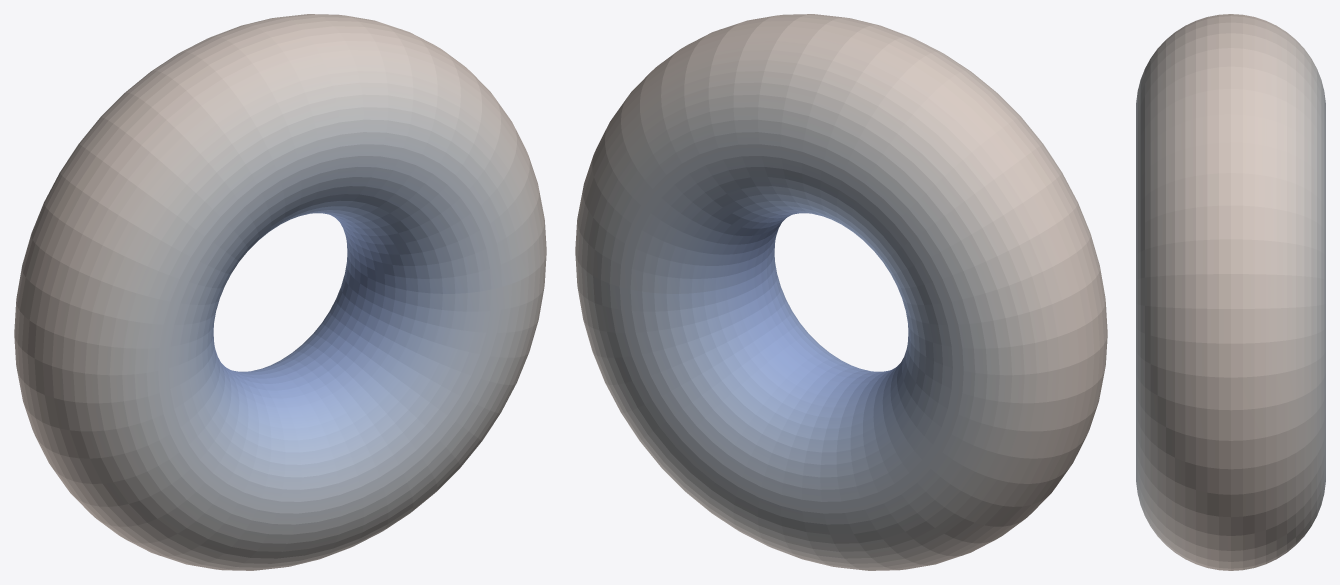
3 renders of one model, left to right at view 1: azimuth 30°, elevation 25°; view 2: azimuth 150°, elevation 25°; view 3: azimuth 270°, elevation 25°, orthographic. The views are drawn at different scales.
Parts seen in each view (by area): view 1: world; view 2: world; view 3: world.
Part boxes in pixels (x1,y1,x2,y2): world: (14,14,546,570); world: (575,14,1107,570); world: (1136,14,1325,570).
Size of the model in its own units: 22.27 by 22.22 by 7.59.
